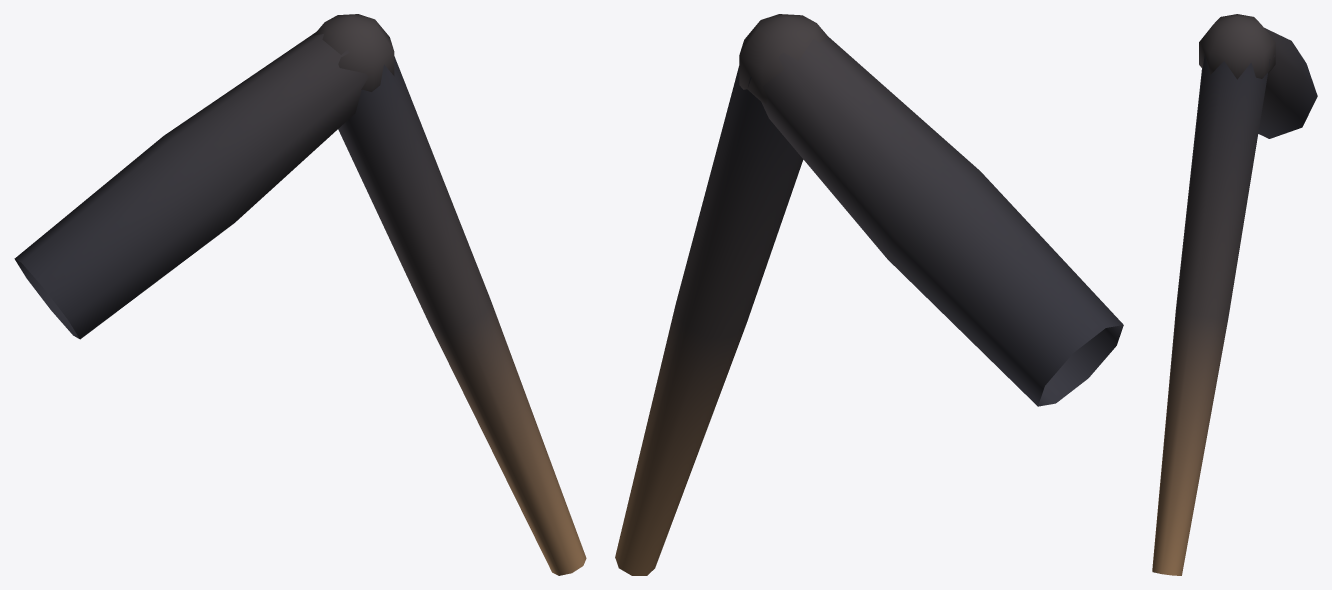
Rendered from Shiomaneki_Leg2.fbx.
3 renders of one model, left to right at view 1: azimuth 30°, elevation 25°; view 2: azimuth 150°, elevation 25°; view 3: azimuth 270°, elevation 25°, orthographic. The views are drawn at different scales.
Visible parts, largest first — view 1: Shiomaneki_Leg2; view 2: Shiomaneki_Leg2; view 3: Shiomaneki_Leg2.
Part boxes in pixels (x1=…): Shiomaneki_Leg2: x1=14, y1=14, x2=586, y2=575; Shiomaneki_Leg2: x1=615, y1=14, x2=1123, y2=575; Shiomaneki_Leg2: x1=1152, y1=14, x2=1317, y2=575.
Bounding box in the file's own units: 0.2816 × 0.3061 × 0.0942.
